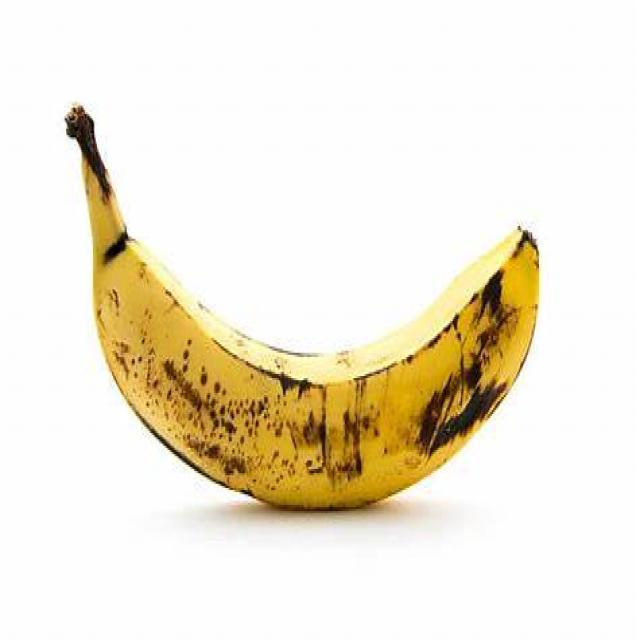Banana: (70, 105, 550, 516)
